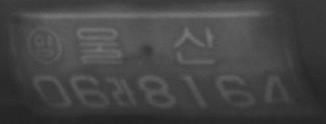0: (30, 73, 72, 111)
1: (177, 73, 210, 110)
4: (262, 72, 297, 108)
6: (214, 73, 257, 110), (72, 73, 111, 110)
8: (137, 73, 177, 110)
라: (111, 75, 137, 107)
영: (26, 26, 64, 65)
울산_D: (75, 24, 217, 67)
